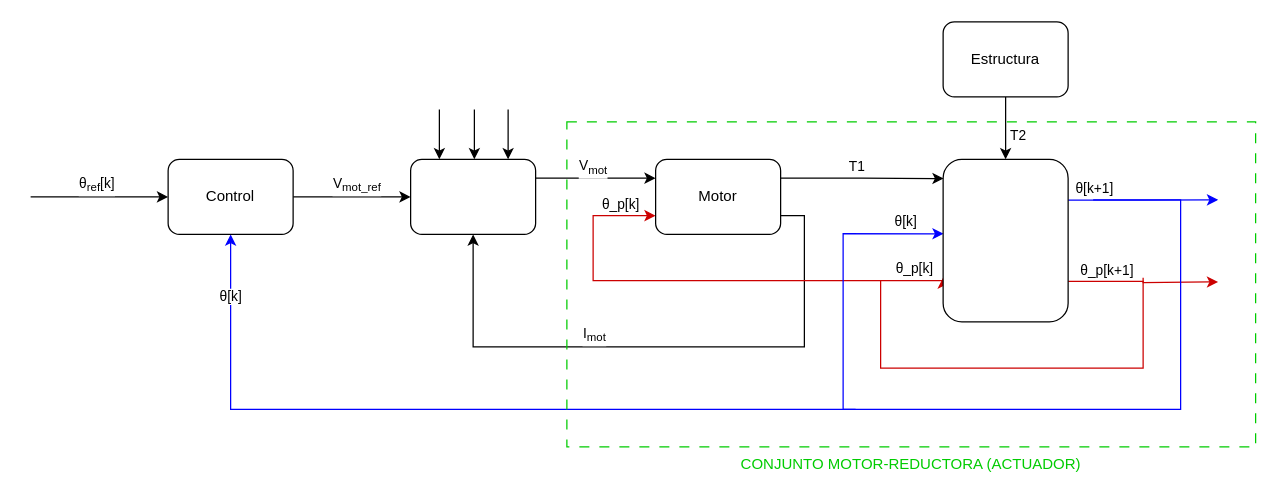
This 1278x495 diagram has some shape labels left out. The shapes that lost their labels are listed below. From the top down, each one's centre as x and y in pixels, then its label:
At point 472,196: "Regulador".
At point 1005,240: "Reductora".
